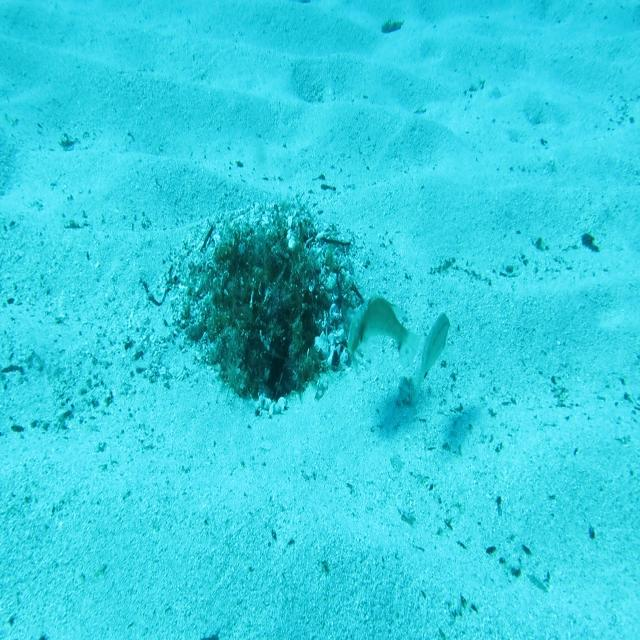BEND: (341, 292, 422, 373)
core_nest: (240, 248, 298, 295)
female: (409, 308, 452, 409)
nest: (166, 192, 375, 434)
vegetation: (381, 16, 405, 34)
